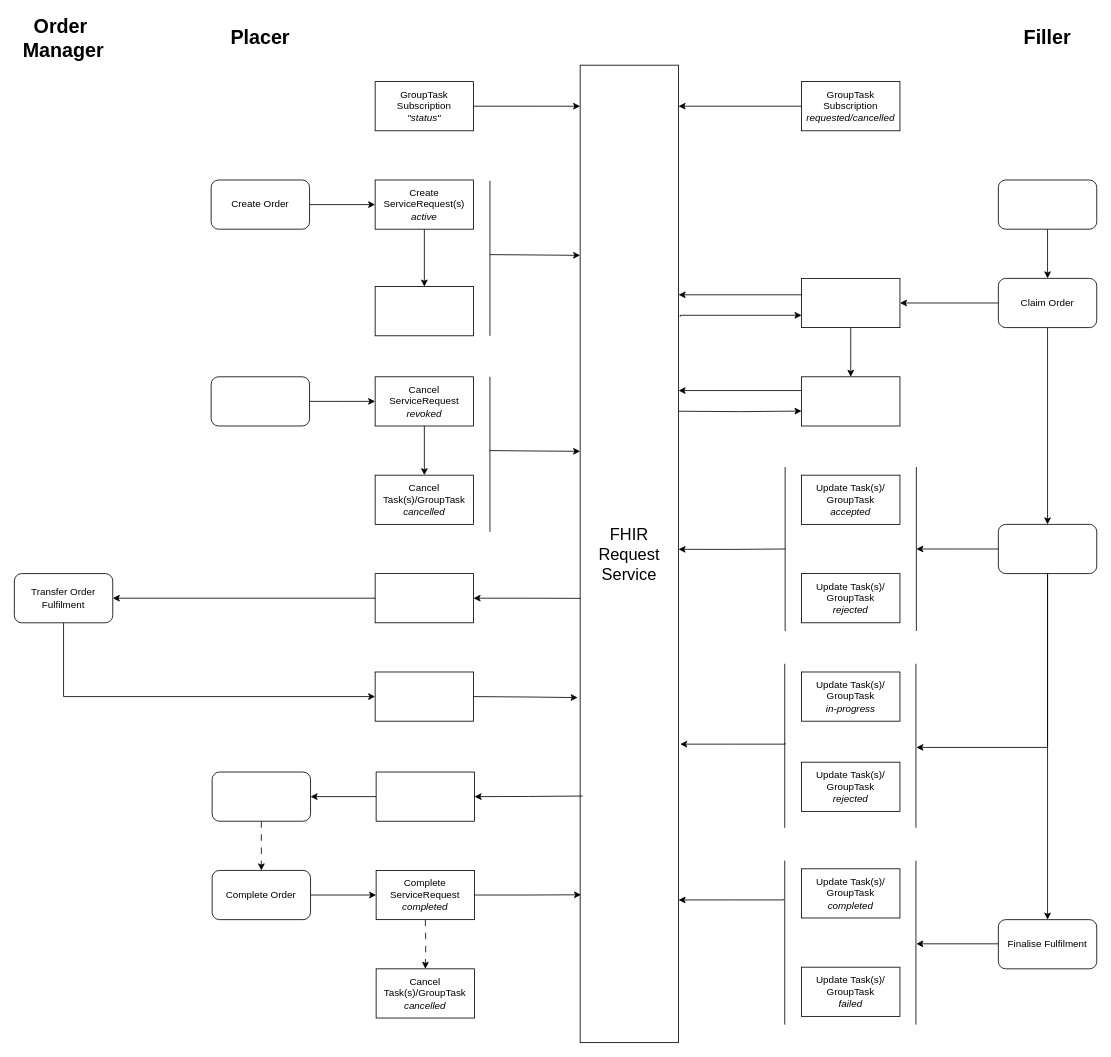
This 1111x1057 diagram has some shape labels left out. The centre of each missing label's shape, as x and y in pixels:
Assign Task(s)/GroupTask(s) owner: the point at 424,696
Cancel Order: the point at 260,401
Claim Operation: the point at 424,598
Claim Operation barcode: the point at 850,303
Create Task(s)/GroupTask(s) requested: the point at 424,311
Get Task(s)/ ServiceRequest(s): the point at 850,401
GroupTask Notification " status ": the point at 425,796
Process Patient: the point at 1047,549
Scan Barcode: the point at 1047,204
Status Update: the point at 261,796
